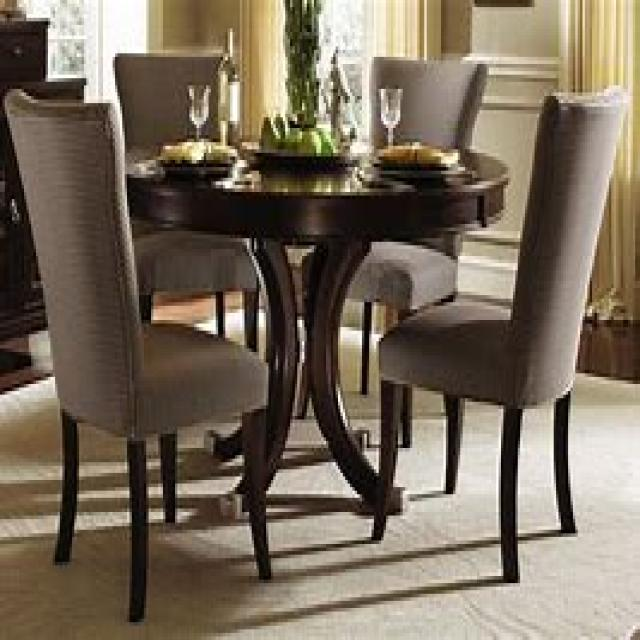chair: (2, 85, 274, 622), (369, 82, 631, 583), (294, 53, 486, 448)
table: (125, 142, 508, 537)
